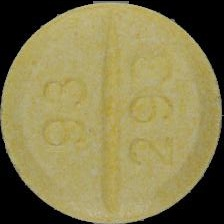0093-0293: (0, 0, 224, 224)
